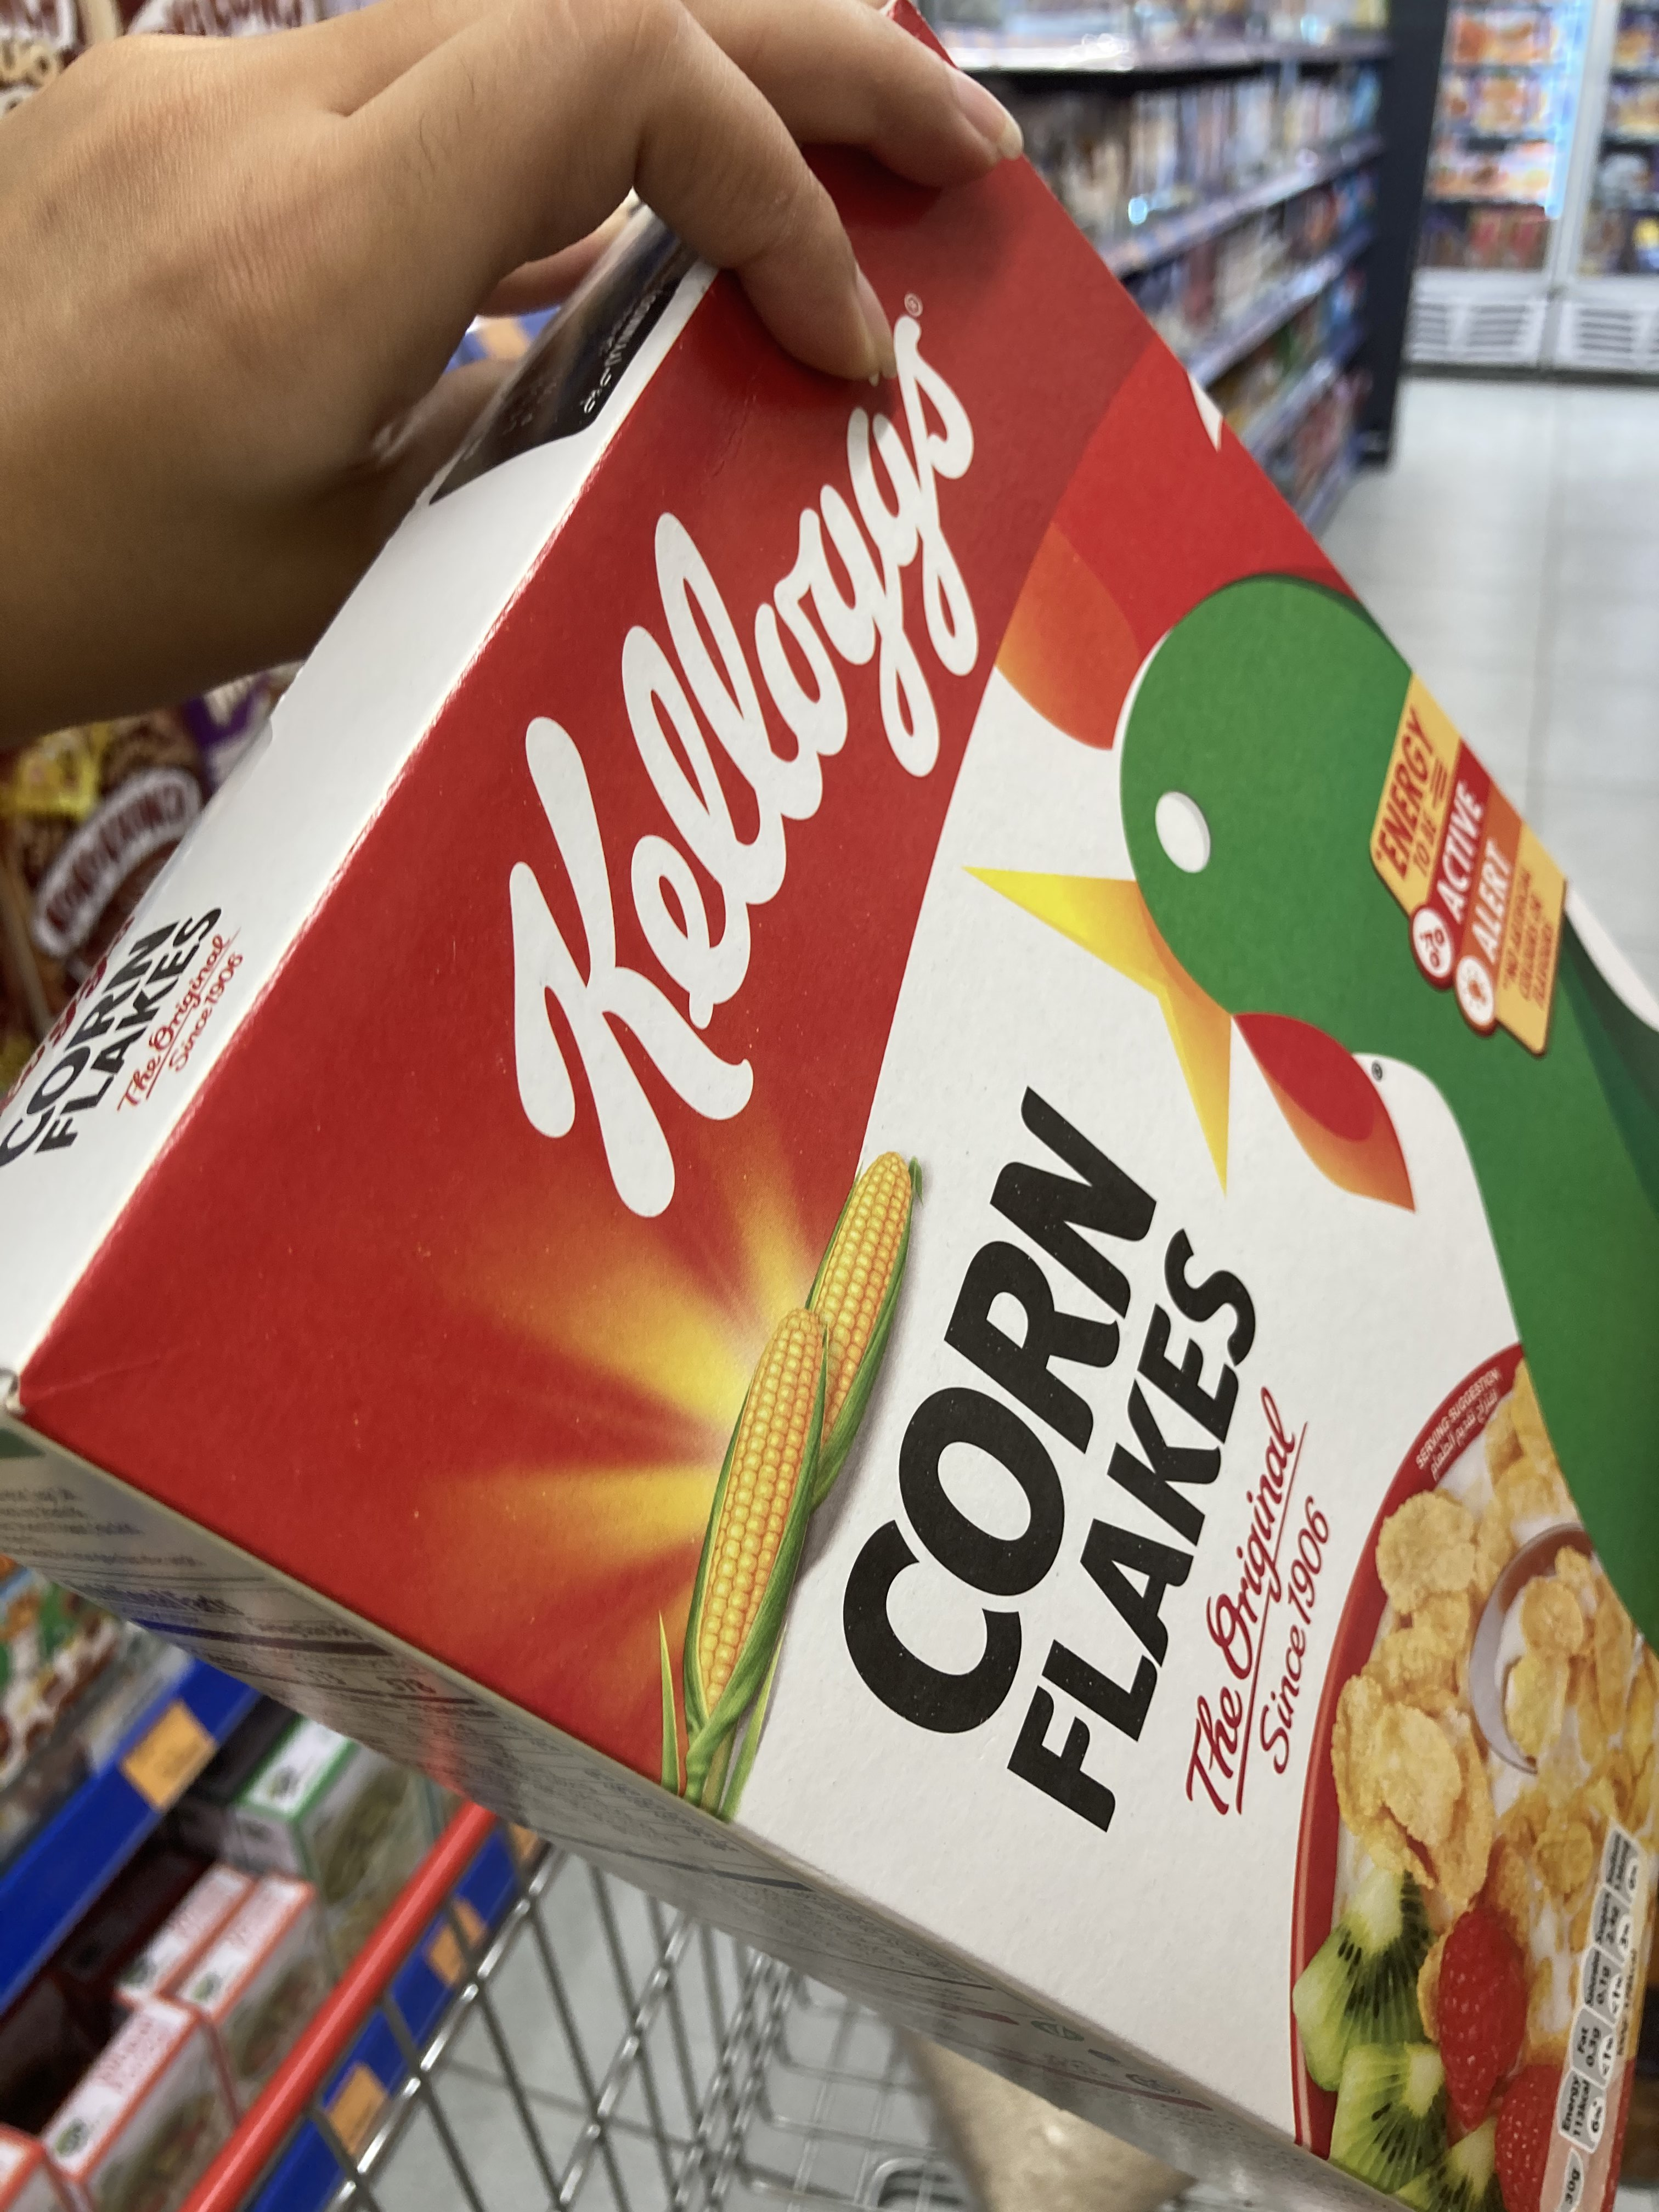Kellogg's Corn Flakes: (5, 94, 1659, 2212)
